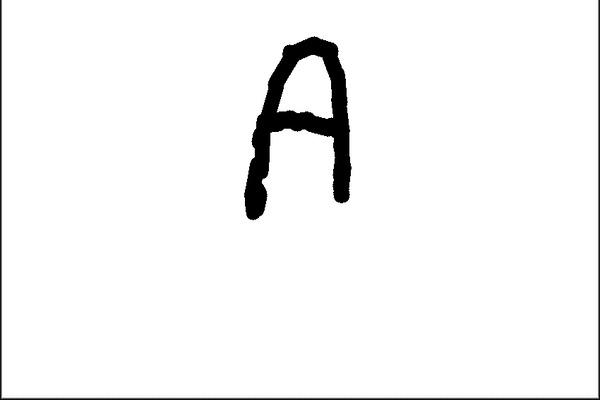A: (231, 23, 360, 224)
